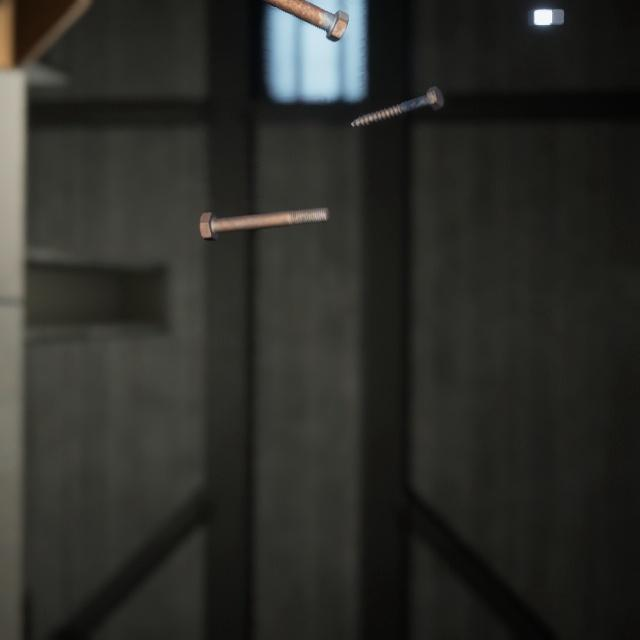bolt: (194, 186, 334, 229), (346, 70, 448, 120), (270, 0, 353, 39)
